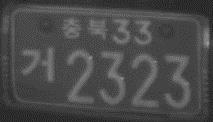2: (64, 48, 95, 104), (129, 53, 160, 108)
3: (99, 49, 127, 106), (163, 54, 192, 108), (111, 17, 130, 45), (134, 20, 153, 45)
거: (20, 48, 55, 82)
충북_O: (62, 17, 108, 40)
